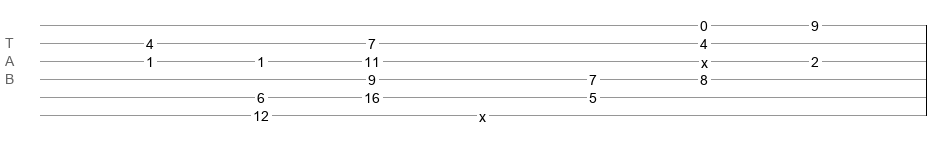0: (700, 18, 708, 28)
1: (146, 54, 154, 64), (257, 54, 265, 64)
11: (364, 54, 380, 64)
12: (253, 108, 269, 118)
16: (364, 90, 380, 100)
2: (811, 54, 819, 64)
4: (146, 36, 154, 46), (700, 36, 708, 46)
5: (589, 90, 597, 100)
6: (257, 90, 265, 100)
7: (368, 36, 376, 46), (589, 72, 597, 82)
8: (700, 72, 708, 82)
9: (368, 72, 376, 82), (811, 18, 819, 28)
x: (479, 109, 486, 117), (701, 55, 708, 63)
